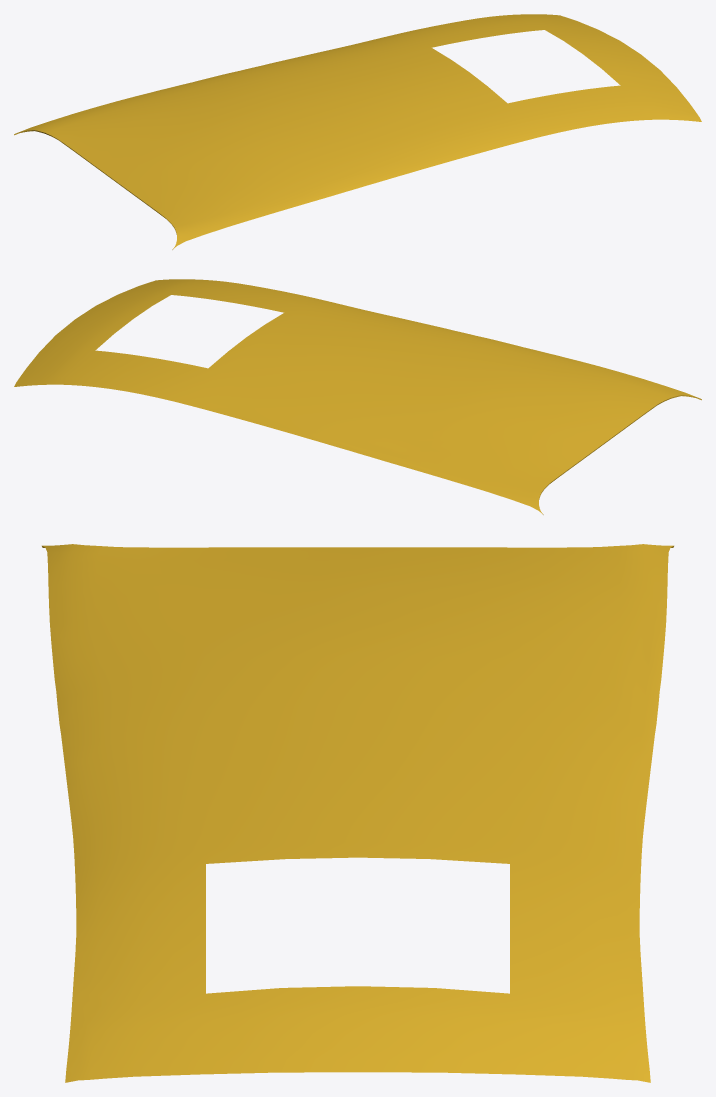
The picture shows the model from 3 angles, top to bottom: view 1: azimuth 30°, elevation 25°; view 2: azimuth 150°, elevation 25°; view 3: azimuth 270°, elevation 25°; orthographic projection. The views are drawn at different scales.
Visible parts, largest first — view 1: P353_20_341B_C_1_DaS_P353_20_341B_C; view 2: P353_20_341B_C_1_DaS_P353_20_341B_C; view 3: P353_20_341B_C_1_DaS_P353_20_341B_C.
Part boxes in pixels (left/top/right/bottom): P353_20_341B_C_1_DaS_P353_20_341B_C: left=20, top=14, right=701, bottom=248; P353_20_341B_C_1_DaS_P353_20_341B_C: left=14, top=279, right=695, bottom=513; P353_20_341B_C_1_DaS_P353_20_341B_C: left=42, top=544, right=673, bottom=1082.
Size of the model in its own units: 258 by 15.82 by 129.
